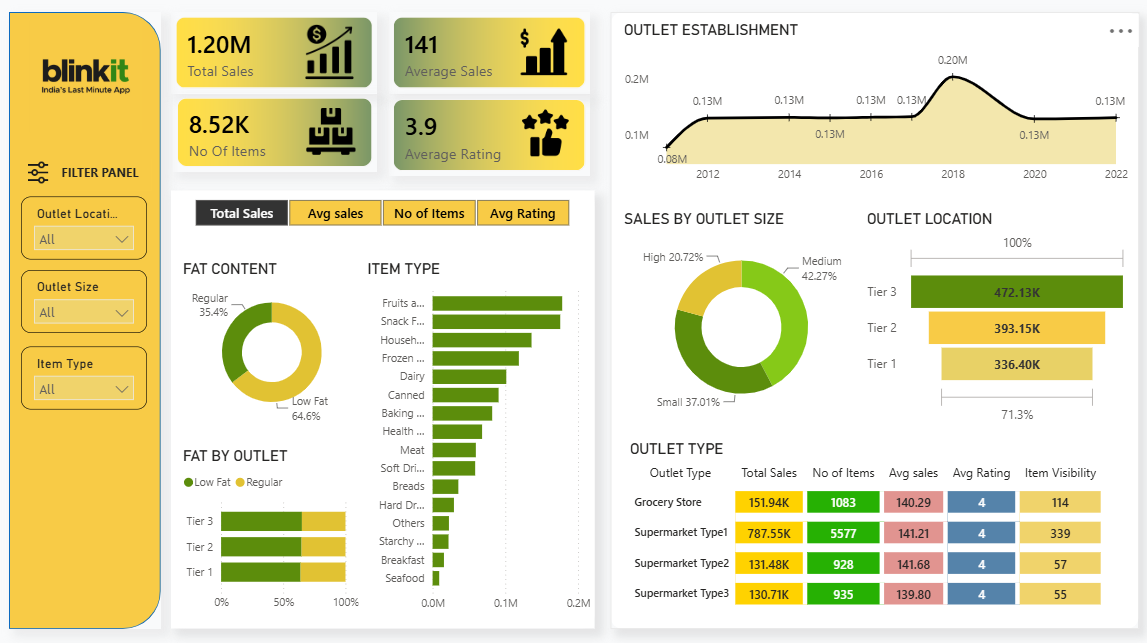

The dashboard page shown, as its layout file describes it:
{"tool":"powerbi","page":{"name":"Dashboard","canvas":[1280,720],"ordinal":0},"visuals":[{"type":"shape","box":[12.7,15.9,168.6,685.6],"z":0},{"type":"image","box":[0,0,221.7,176.7],"z":1000},{"type":"cardVisual","fields":{"Data":["Sum(BlinkIT Grocery Data.Sales)"]},"box":[194.1,15.9,229,90.7],"z":2000},{"type":"cardVisual","fields":{"Data":["Avg(BlinkIT Grocery Data.Sales)"]},"box":[435.8,15.9,224.3,90.7],"z":3000},{"type":"cardVisual","fields":{"Data":["CountNonNull(BlinkIT Grocery Data.Item Identifier)"]},"box":[195.6,106.6,227.5,87.5],"z":4000},{"type":"cardVisual","fields":{"Data":["Avg(BlinkIT Grocery Data.Rating)"]},"box":[435.8,108.2,224.3,90.7],"z":5000},{"type":"shape","box":[194.1,214.7,470.8,486.7],"z":6000},{"type":"donutChart","title":"FAT CONTENT","fields":{"Y":["BlinkIT Grocery Data.Total Sales"],"Category":["BlinkIT Grocery Data.Item Fat Content"]},"box":[202,291.1,206.8,186.1],"z":7000},{"type":"clusteredBarChart","title":"ITEM TYPE","fields":{"Y":["BlinkIT Grocery Data.Total Sales"],"Category":["BlinkIT Grocery Data.Item Type"]},"box":[407.2,291.1,257.7,399.2],"z":8000},{"type":"hundredPercentStackedBarChart","title":"FAT BY OUTLET","fields":{"Y":["BlinkIT Grocery Data.Total Sales"],"Category":["BlinkIT Grocery Data.Outlet Location Type"],"Series":["BlinkIT Grocery Data.Item Fat Content"]},"box":[202,499.5,205.2,190.9],"z":9000},{"type":"shape","box":[682.4,15.9,586.9,685.6],"z":10000},{"type":"lineChart","title":"OUTLET ESTABLISHMENT","fields":{"Y":["Sum(BlinkIT Grocery Data.Sales)"],"Category":["BlinkIT Grocery Data.Outlet Establishment Year"]},"box":[691.9,27,569.4,187.7],"z":11000},{"type":"donutChart","title":"SALES BY OUTLET SIZE","fields":{"Category":["BlinkIT Grocery Data.Outlet Size"],"Y":["Sum(BlinkIT Grocery Data.Sales)"]},"box":[691.9,237,270.4,240.2],"z":12000},{"type":"funnel","title":"OUTLET LOCATION","fields":{"Category":["BlinkIT Grocery Data.Outlet Location Type"],"Y":["Sum(BlinkIT Grocery Data.Sales)"]},"box":[962.3,237,299,241.8],"z":13000},{"type":"slicer","fields":{"Values":["Parameter.Parameter"]},"box":[195.6,217.9,464.5,39.8],"z":14000},{"type":"pivotTable","title":"OUTLET TYPE","fields":{"Rows":["BlinkIT Grocery Data.Outlet Type"],"Values":["BlinkIT Grocery Data.Total Sales","BlinkIT Grocery Data.No of Items","BlinkIT Grocery Data.Avg sales","BlinkIT Grocery Data.Avg Rating","Sum(BlinkIT Grocery Data.Item Visibility)"]},"box":[698.3,491.5,555.1,197.2],"z":15000},{"type":"slicer","fields":{"Values":["BlinkIT Grocery Data.Outlet Location Type"]},"box":[26.7,221.7,140,70],"z":16000},{"type":"slicer","fields":{"Values":["BlinkIT Grocery Data.Outlet Size"]},"box":[26.7,303.3,140,70],"z":17000},{"type":"slicer","fields":{"Values":["BlinkIT Grocery Data.Item Type"]},"box":[26.7,388.3,140,70],"z":18000},{"type":"image","box":[331.7,30,75,61.7],"z":19000},{"type":"image","box":[281.7,121.7,178.3,55],"z":20000},{"type":"image","box":[553.3,125,111.7,51.7],"z":21000},{"type":"image","box":[523.3,33.3,168.3,55],"z":22000},{"type":"textbox","box":[66.7,180,105,35],"z":23000},{"type":"image","box":[13.3,180,65,30],"z":24000}]}

Visuals, with their boxes in screenshot pixels (x1, y1, x2, y2), scaled from the page's 1280x720 canvas onto the 1147x643 screenshot:
shape: (11, 14, 162, 626)
image: (0, 0, 199, 158)
cardVisual - Sum(BlinkIT Grocery Data.Sales): (174, 14, 379, 95)
cardVisual - Avg(BlinkIT Grocery Data.Sales): (391, 14, 592, 95)
cardVisual - CountNonNull(BlinkIT Grocery Data.Item Identifier): (175, 95, 379, 173)
cardVisual - Avg(BlinkIT Grocery Data.Rating): (391, 97, 592, 178)
shape: (174, 192, 596, 626)
"FAT CONTENT" donutChart: (181, 260, 366, 426)
"ITEM TYPE" clusteredBarChart: (365, 260, 596, 616)
"FAT BY OUTLET" hundredPercentStackedBarChart: (181, 446, 365, 617)
shape: (611, 14, 1137, 626)
"OUTLET ESTABLISHMENT" lineChart: (620, 24, 1130, 192)
"SALES BY OUTLET SIZE" donutChart: (620, 212, 862, 426)
"OUTLET LOCATION" funnel: (862, 212, 1130, 428)
slicer - Parameter.Parameter: (175, 195, 592, 230)
"OUTLET TYPE" pivotTable: (626, 439, 1123, 615)
slicer - BlinkIT Grocery Data.Outlet Location Type: (24, 198, 149, 261)
slicer - BlinkIT Grocery Data.Outlet Size: (24, 271, 149, 333)
slicer - BlinkIT Grocery Data.Item Type: (24, 347, 149, 409)
image: (297, 27, 364, 82)
image: (252, 109, 412, 158)
image: (496, 112, 596, 158)
image: (469, 30, 620, 79)
textbox: (60, 161, 154, 192)
image: (12, 161, 70, 188)
